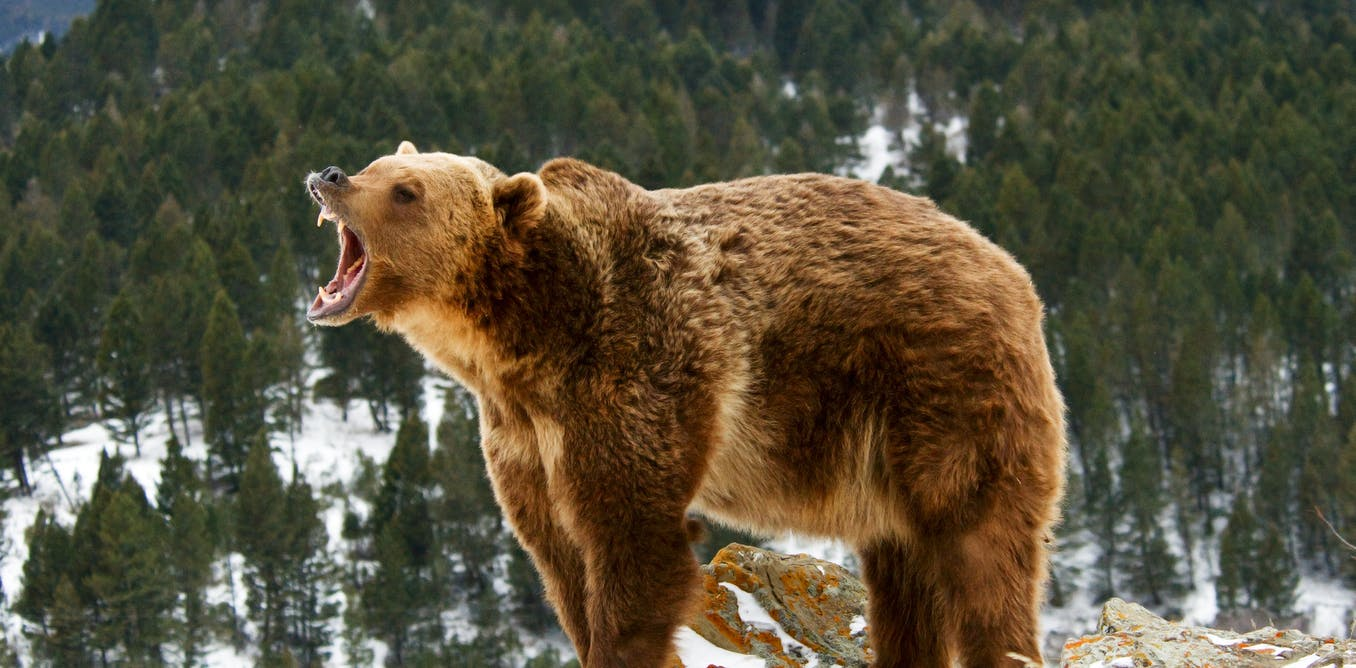bear: (299, 134, 1086, 668)
